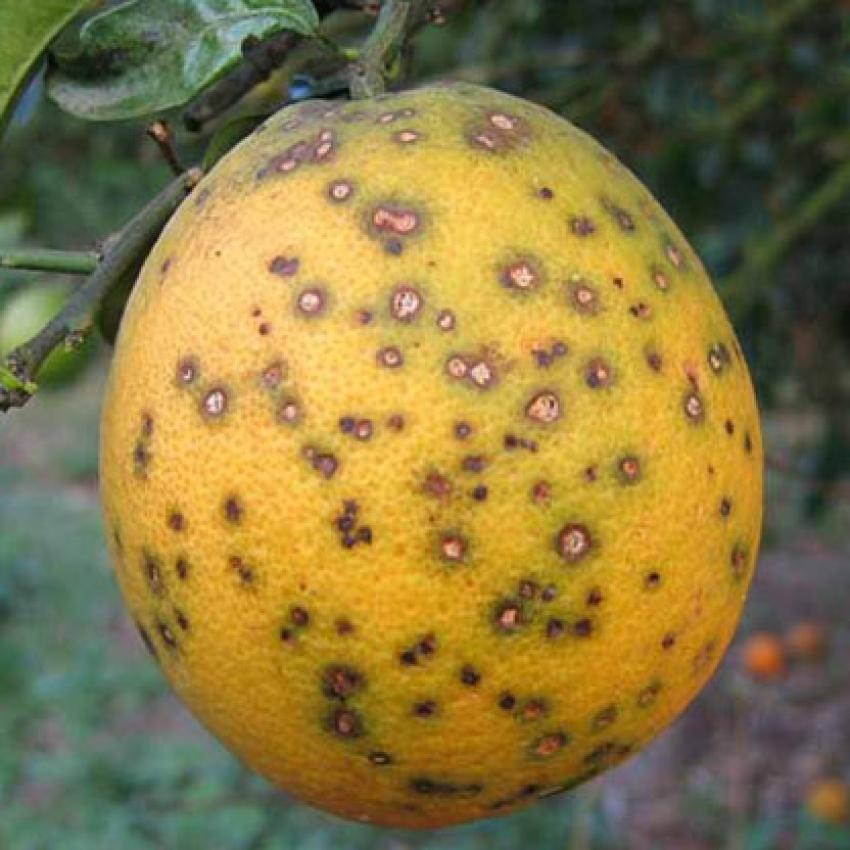Mal estado: (93, 73, 772, 836)
